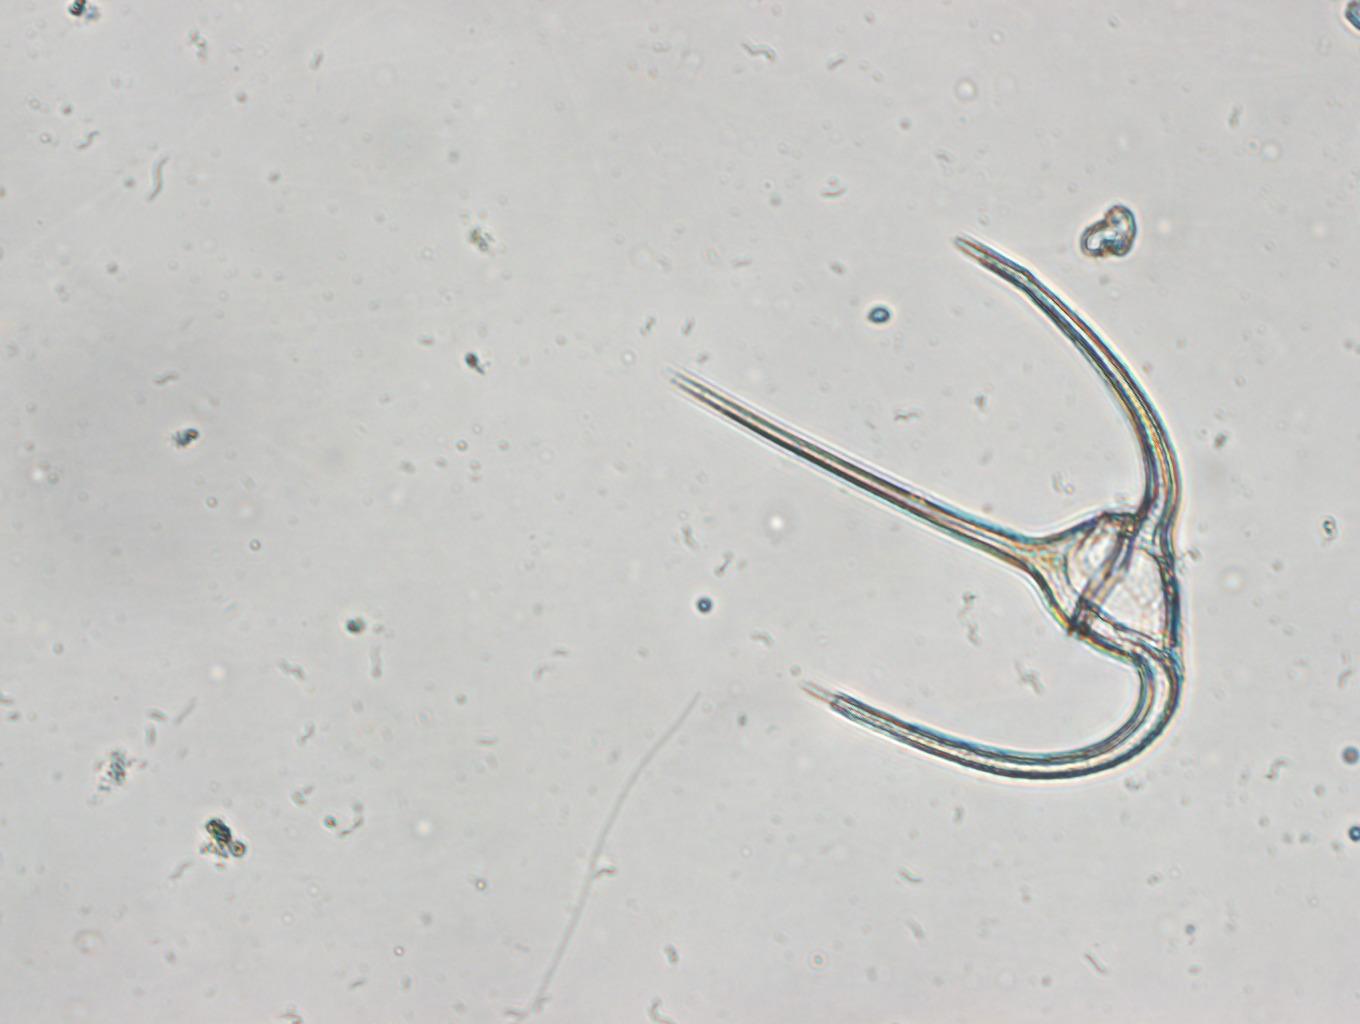ceratium trichoceros: (658, 226, 1196, 785)
